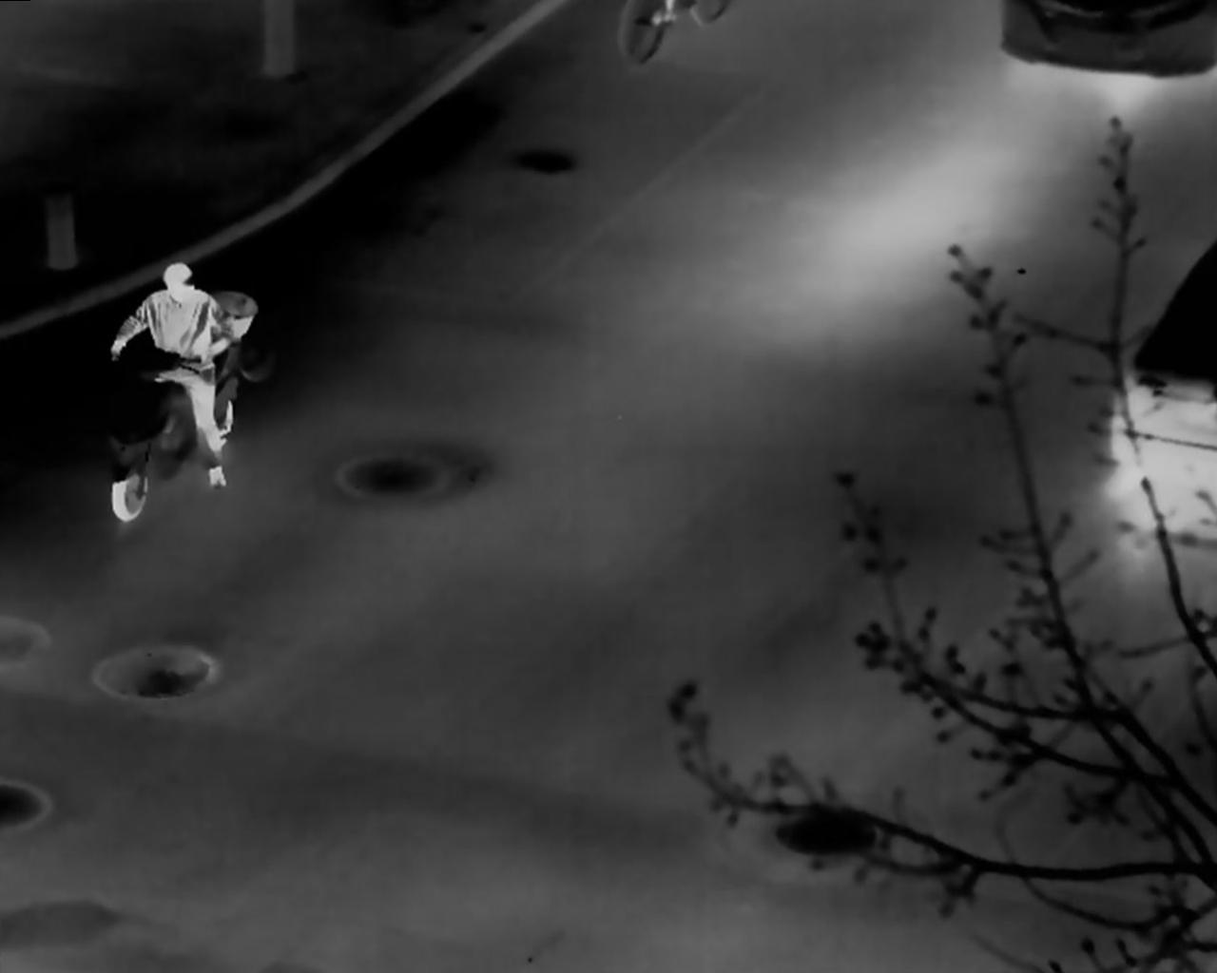person: (115, 265, 238, 462)
